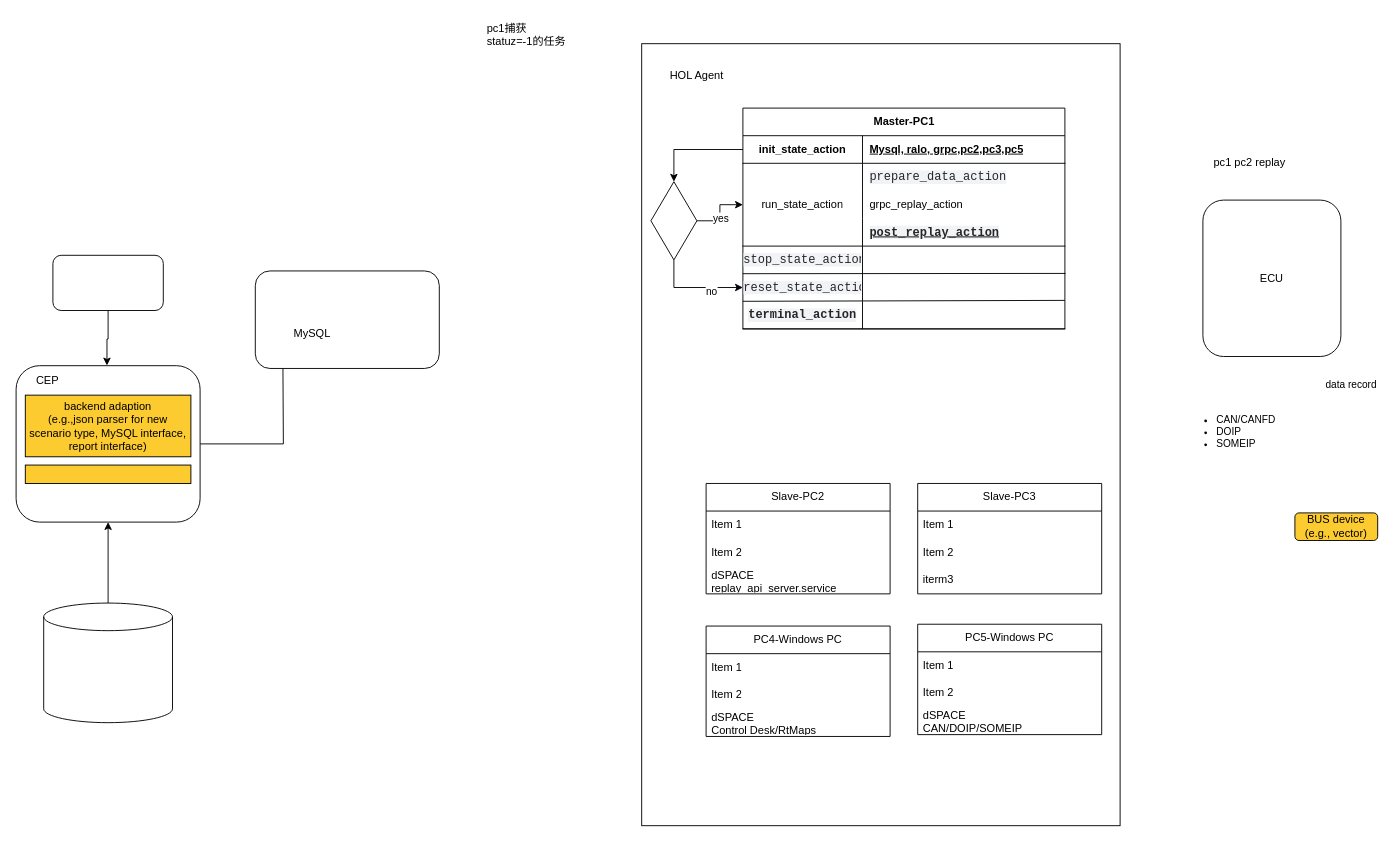
This 1394x842 diagram has some shape labels left out. Here are the shapes that lost their labels. From the top down, the centre of each, then its label:
pixel 673 220: All_ok
pixel 107 282: 用户在CEP创建任务
pixel 107 473: KPI report (online mode)
pixel 107 662: Tencent COS
